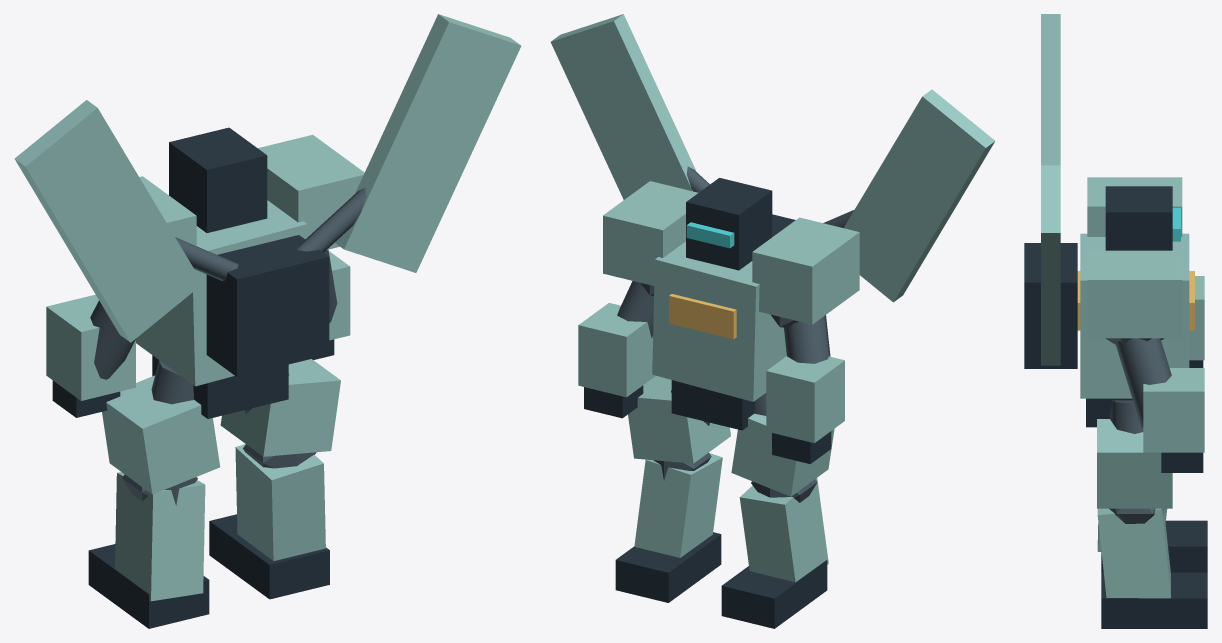
The model's file is frame-black-witch.glb.
3 renders of one model, left to right at view 1: azimuth 30°, elevation 25°; view 2: azimuth 150°, elevation 25°; view 3: azimuth 270°, elevation 25°, orthographic. The views are drawn at different scales.
Visible parts, largest first — view 1: frame-black-witch; view 2: frame-black-witch; view 3: frame-black-witch.
Part boxes in pixels (left/top/right/bottom): frame-black-witch: left=14, top=14, right=521, bottom=628; frame-black-witch: left=550, top=14, right=995, bottom=628; frame-black-witch: left=1024, top=14, right=1207, bottom=628.
Size of the model in its own units: 1.81 by 1.97 by 0.655.
